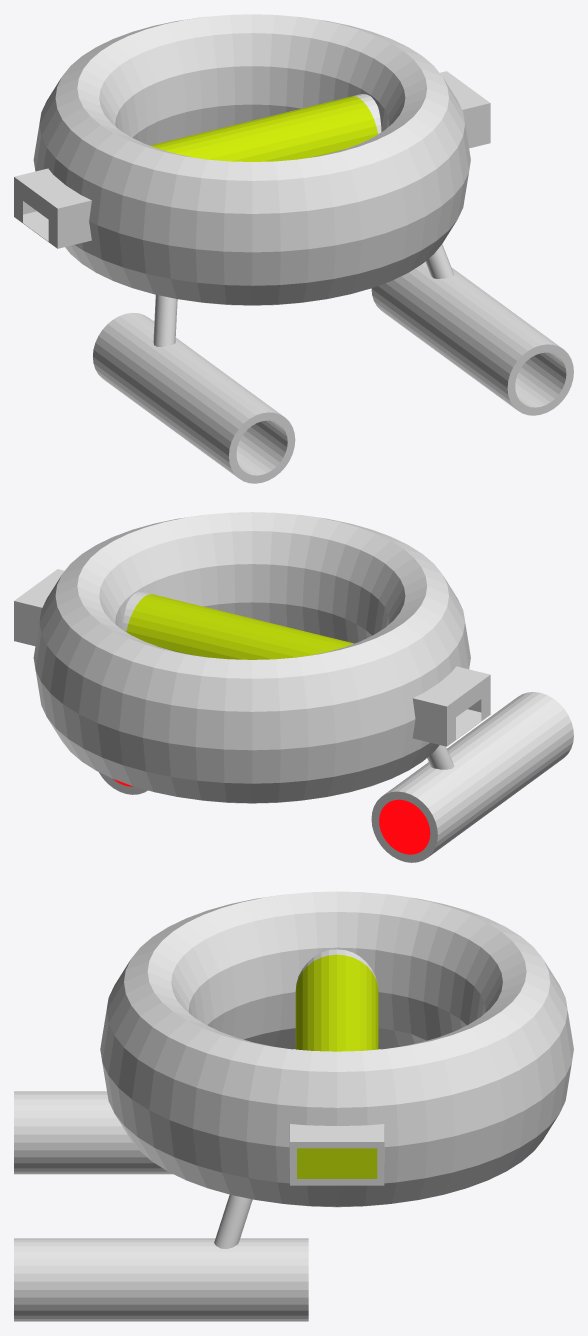
The model's file is shipinterior.fbx.
The picture shows the model from 3 angles, top to bottom: view 1: azimuth 30°, elevation 25°; view 2: azimuth 150°, elevation 25°; view 3: azimuth 270°, elevation 25°; orthographic projection. The views are drawn at different scales.
Visible parts, largest first — view 1: Torus, Cylinder.001, Cylinder, Airlock, Captain Cabin, NurbsPath; view 2: Torus, Cylinder.001, Cylinder, Airlock, Captain Cabin, NurbsPath; view 3: Torus, Cylinder.001, Cylinder, Captain Cabin, NurbsPath.
Part boxes in pixels (x1,y1,x2,y2): Torus: (33, 14, 470, 305); Cylinder.001: (93, 262, 573, 483); Cylinder: (150, 94, 381, 161); Airlock: (14, 168, 91, 248); Captain Cabin: (440, 71, 490, 148); NurbsPath: (153, 244, 454, 346); Torus: (33, 512, 470, 803); Cylinder.001: (99, 692, 573, 862); Cylinder: (123, 591, 353, 659); Airlock: (412, 666, 490, 746); Captain Cabin: (14, 569, 64, 645); NurbsPath: (427, 745, 454, 769); Torus: (100, 891, 573, 1207); Cylinder.001: (14, 1091, 308, 1321); Cylinder: (295, 949, 378, 1051); Captain Cabin: (290, 1124, 384, 1185); NurbsPath: (214, 1194, 252, 1248).
Bounding box in the file's own units: 8099 × 4496 × 8375.
